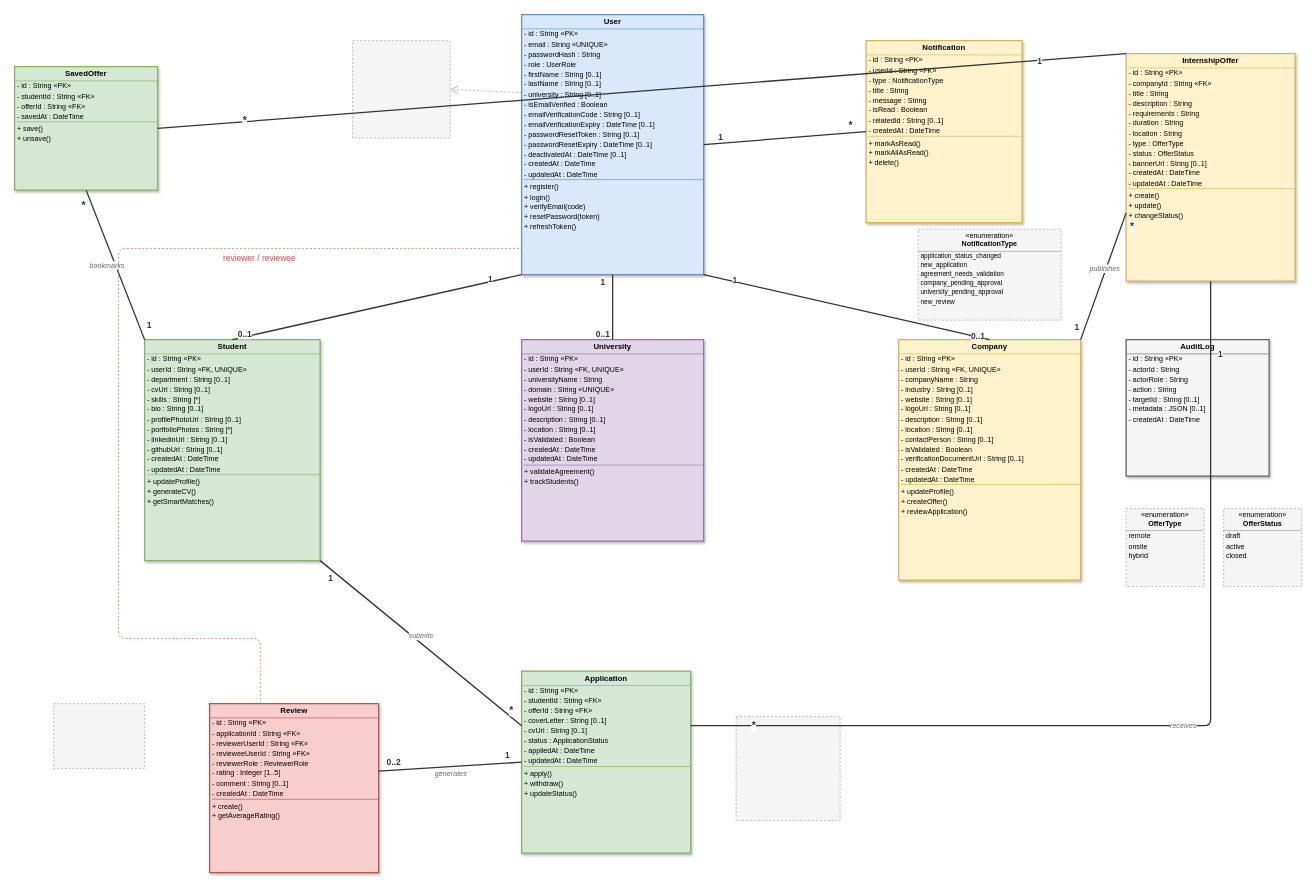
The diagram is 1313 pixels wide and 889 high, and some of its shapes have lost their labels. Here are the shapes that lost their labels. From the top down, the centre of each, then its label:
At point 401,89: "«enumeration» UserRole student company admin superadmin university".
At point 99,736: "«enumeration» ReviewerRole student company".
At point 787,768: "«enumeration» ApplicationStatus pending accepted rejected withdrawn validated".
